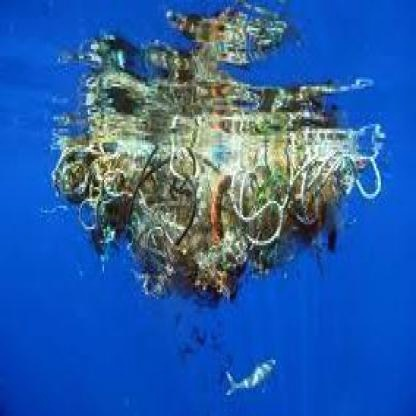net: (54, 119, 385, 269)
